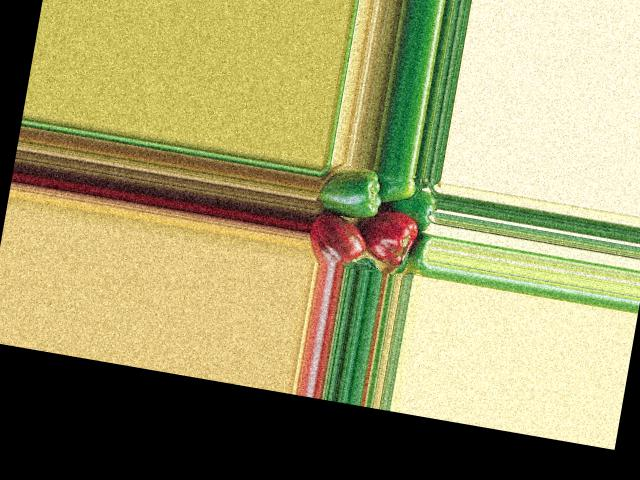bell_pepper: (305, 213, 370, 268)
